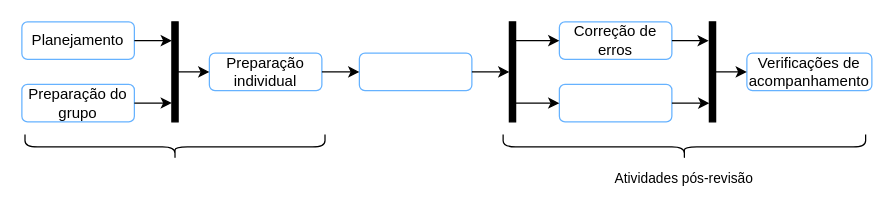
Some shapes in this 894 by 219 pixel diagram are drawn without their labels. The box of each missing label's shape, as (x1, y1, x2, y2) in pixels:
Atividades pré-revisão: (24, 133, 325, 159)
Melhoria: (558, 83, 672, 122)
Reunião de revisão: (358, 52, 472, 91)
